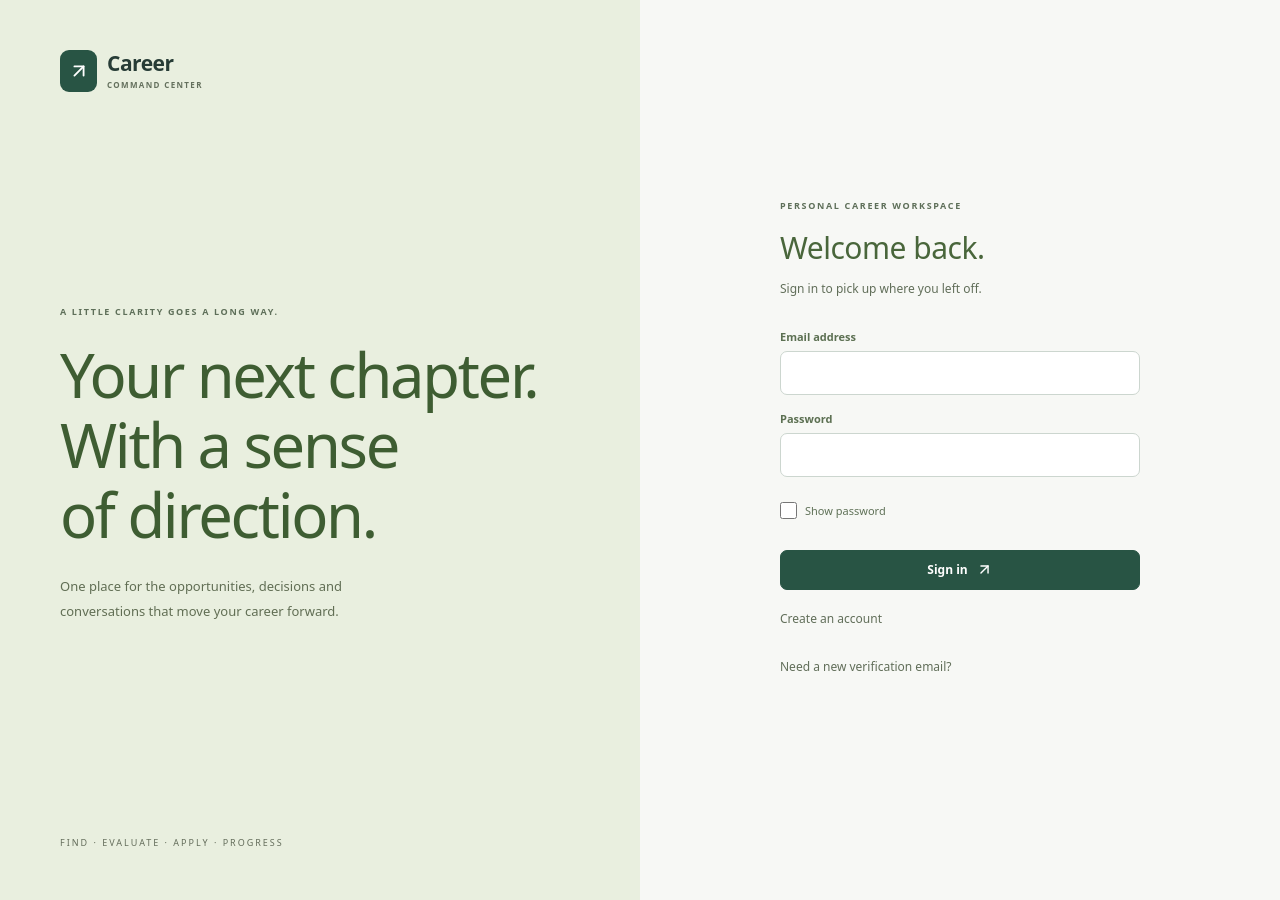
Test: Supabase email/password interaction (mocked service) › shows auth errors, accepts a session, loads owned records and clears UI on logout
This screenshot has width=1280, height=900.
Expected: the button "Sign in" is shown, [780, 550, 1140, 590]
Step 1. Type "moshe@example.test" into the field labelled "Email address" → (960, 373), box [780, 351, 1140, 395]
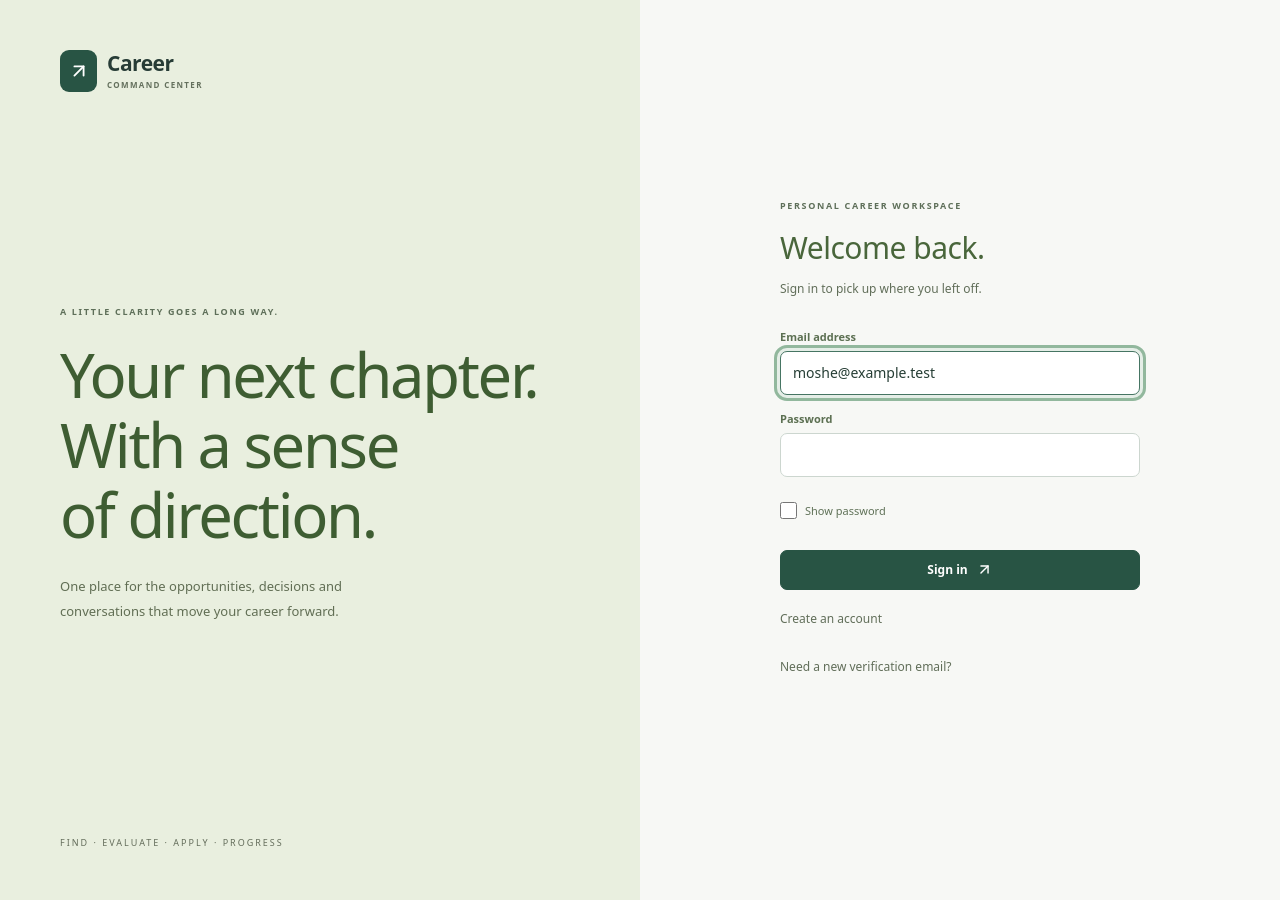
Step 2. Type "test-password-only" into the password field labelled "Password" → (960, 455), box [780, 433, 1140, 477]
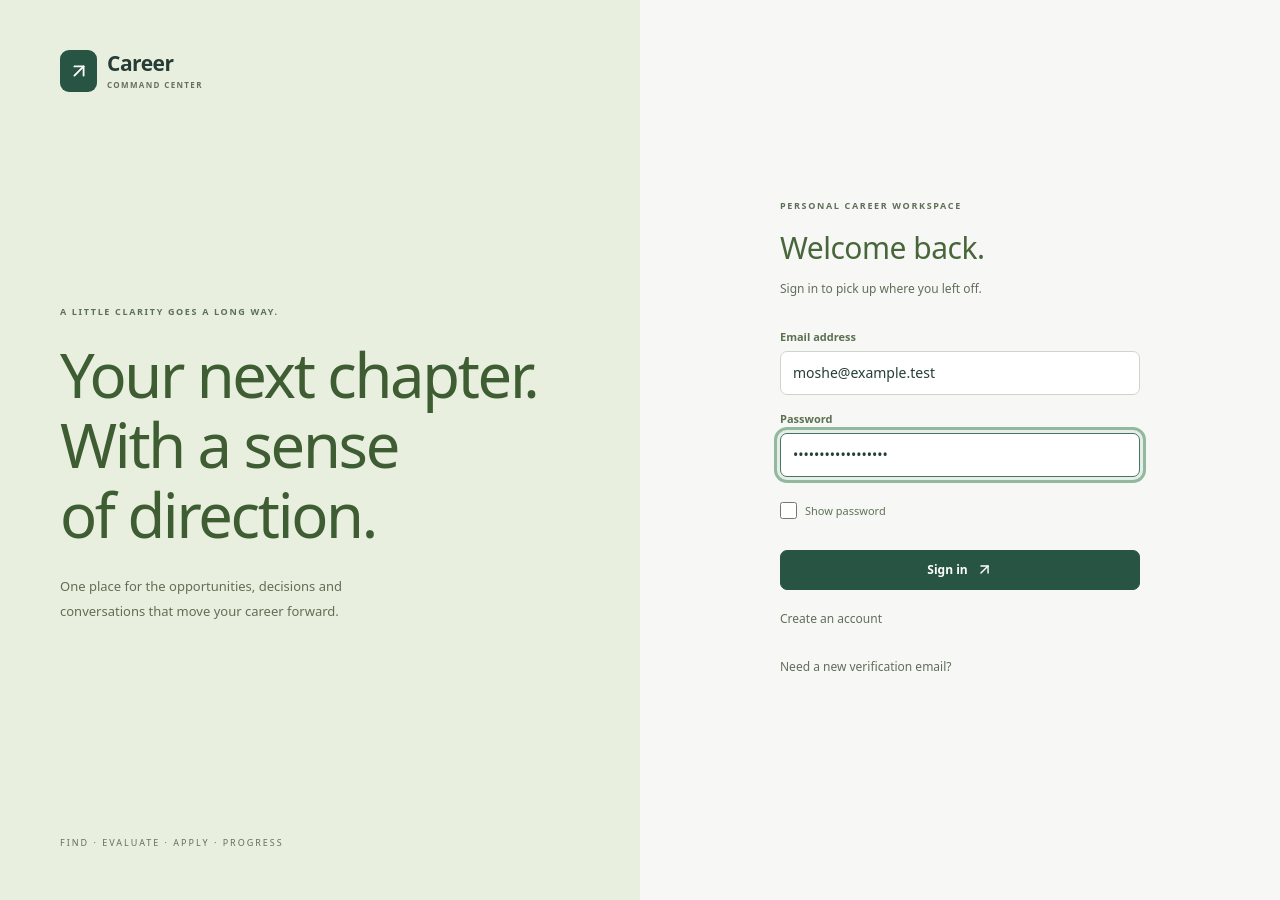
Step 3. Click the button "Sign in" → (960, 570), box [780, 550, 1140, 590]
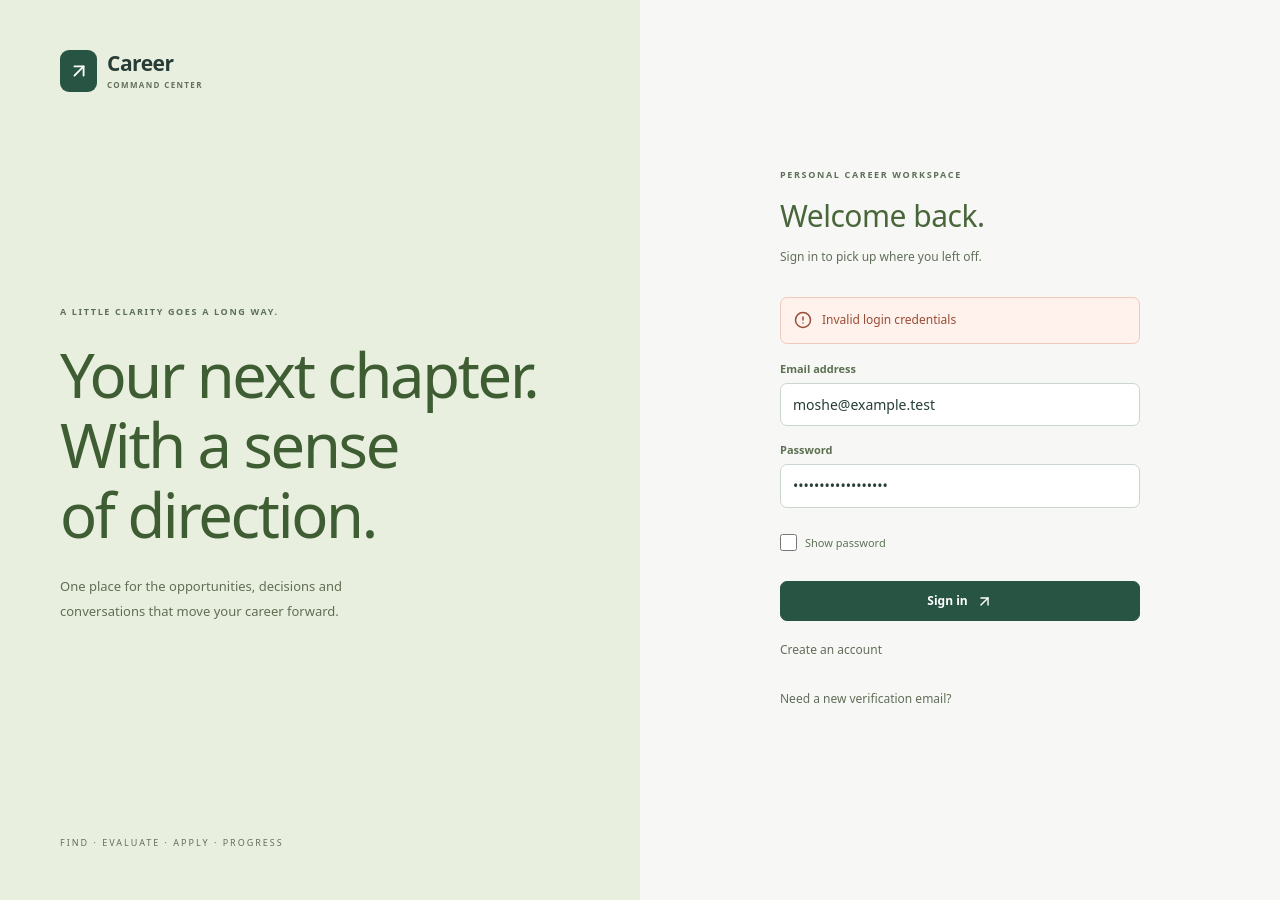
Expected: the text "Invalid login credentials" is shown, [822, 311, 956, 330]
Step 4. Click the button "Sign in" → (960, 601), box [780, 581, 1140, 621]
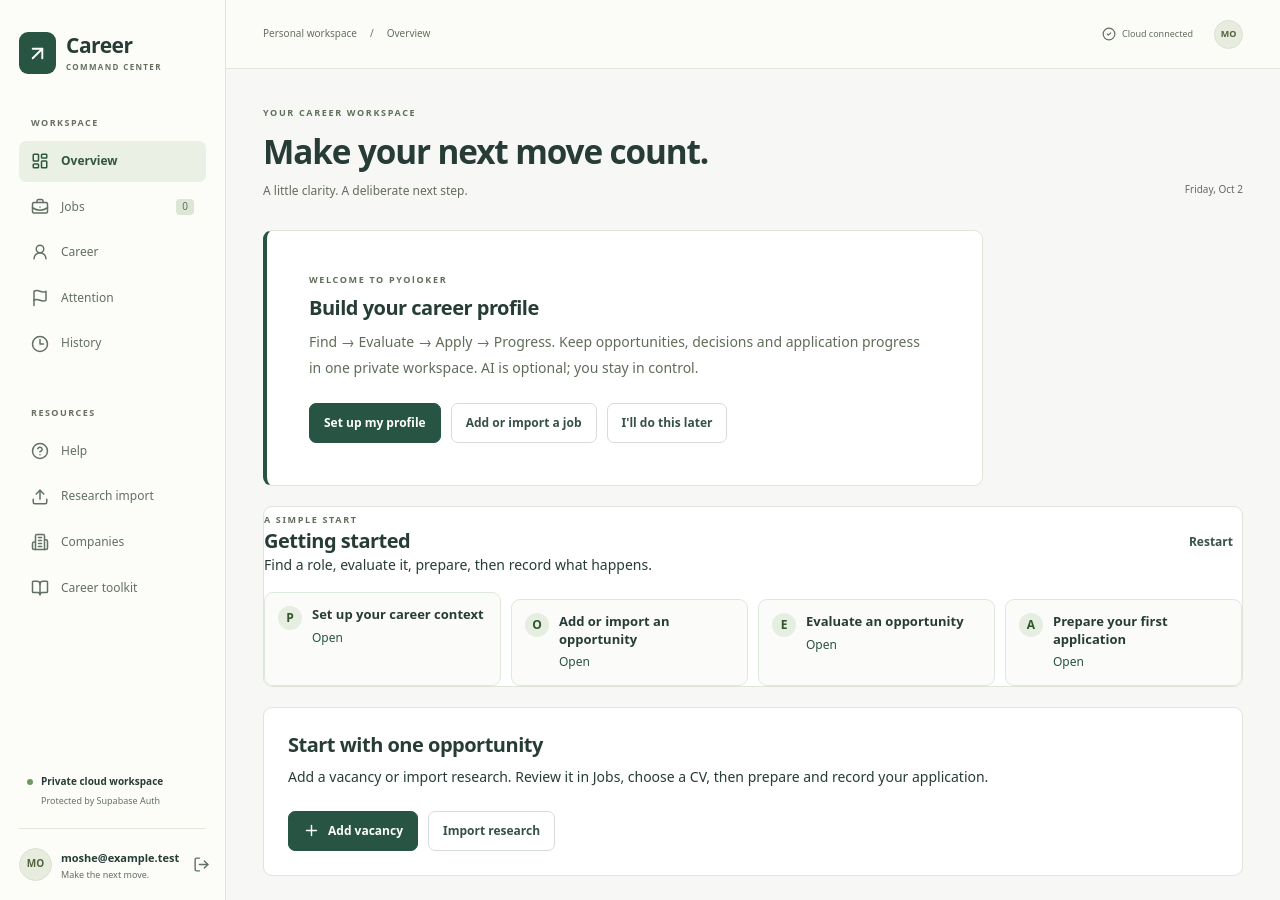
Expected: the heading "Make your next move count." is shown, [263, 132, 708, 172]
Step 5. Click the button named "Sign out" → (202, 864), box [188, 846, 215, 882]
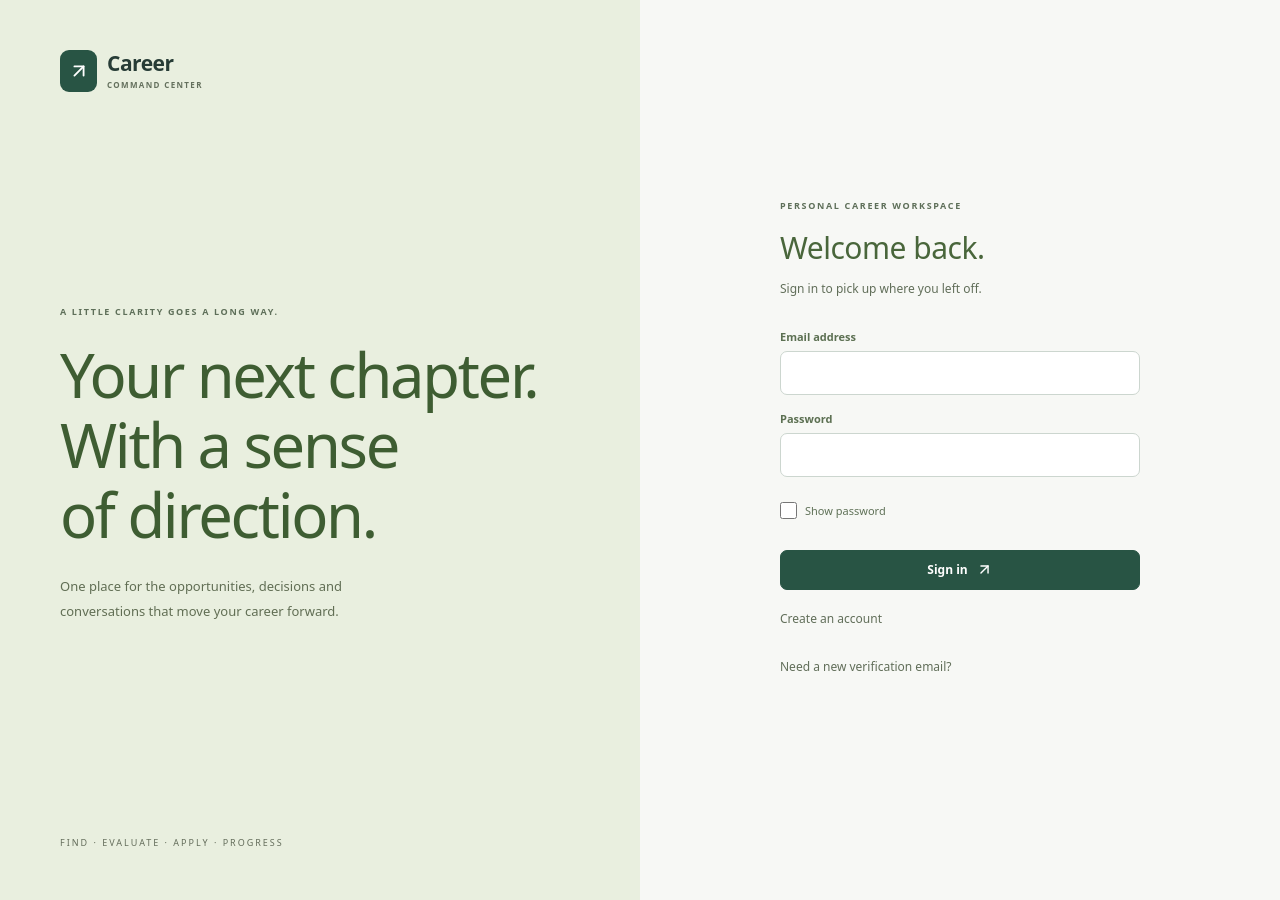
Expected: the button "Sign in" is shown, [780, 550, 1140, 590]
Expected: the heading "Make your next move count." is gone
